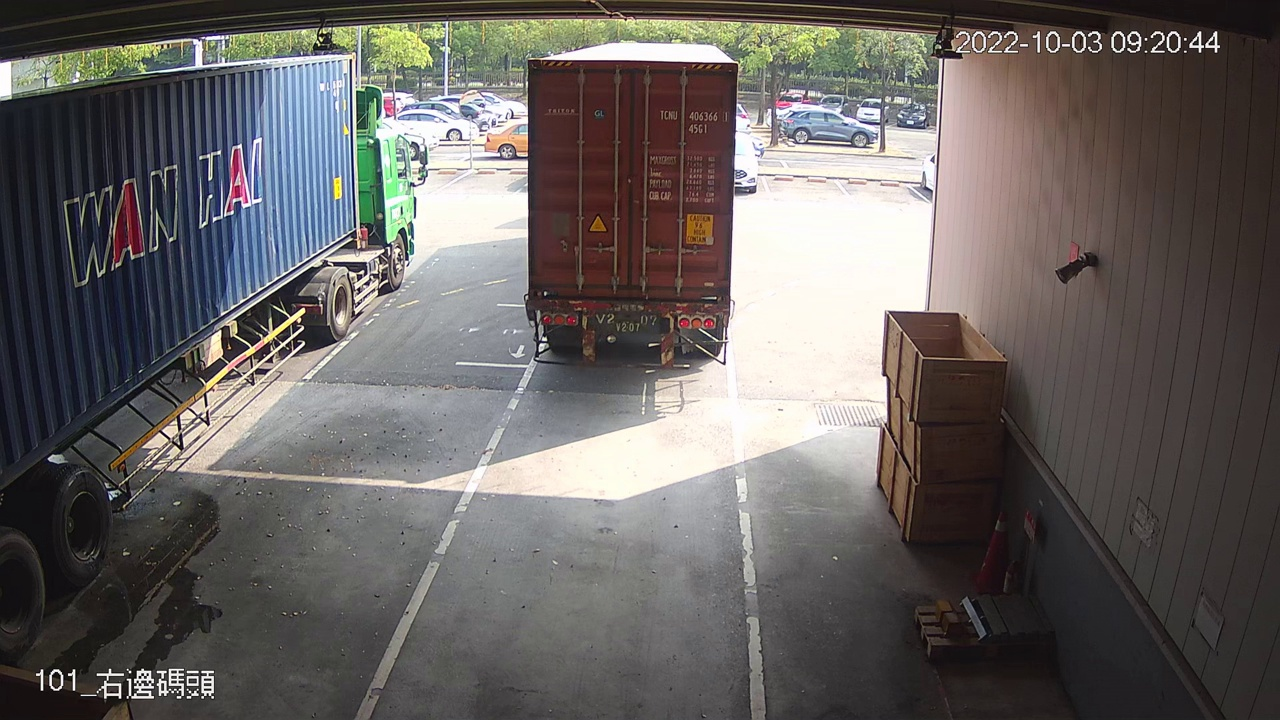container: (655, 102, 731, 141)
